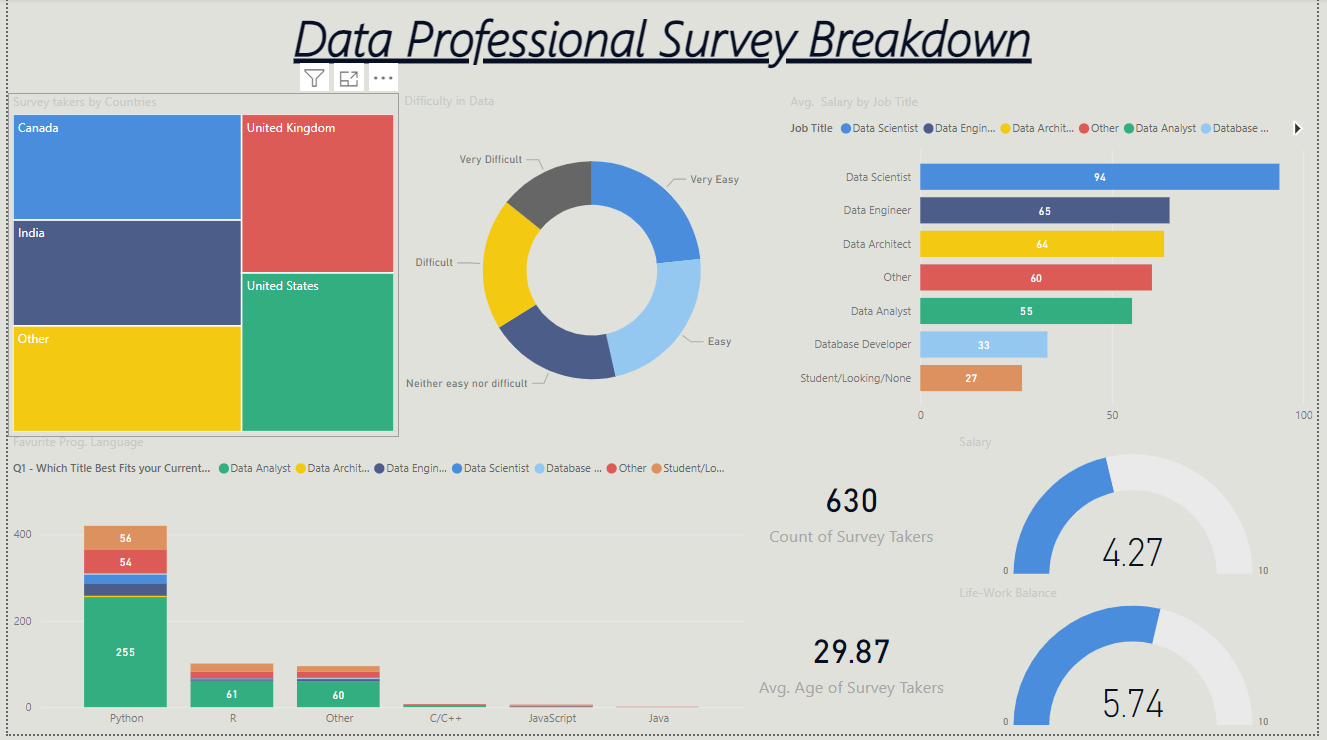

Layout of this report page (visuals, bound fields, positions):
{"tool":"powerbi","page":{"name":"Page 1","canvas":[1280,720],"ordinal":0},"visuals":[{"type":"textbox","box":[0,0,1280.3,91.3],"z":0},{"type":"card","fields":{"Values":["Count(Data Professional Survey.Unique ID)"]},"box":[725,424.8,200.1,147.9],"z":1},{"type":"card","fields":{"Values":["Avg(Data Professional Survey.Q10 - Current Age)"]},"box":[725,572.7,200.1,147.9],"z":2},{"type":"barChart","title":"Avg.  Salary by Job Title","fields":{"Category":["Data Professional Survey.Q1 - Which Title Best Fits your Current Role?.1"],"Y":["Avg(Data Professional Survey.Avg. Salary )"],"Series":["Data Professional Survey.Q1 - Which Title Best Fits your Current Role?.1"]},"box":[759.8,92.8,520.5,332],"z":3},{"type":"columnChart","title":"Favurite Prog. Language","fields":{"Category":["Data Professional Survey.Q5 - Favorite Programming Language.1"],"Y":["CountNonNull(Data Professional Survey.Unique ID)"],"Series":["Data Professional Survey.Q1 - Which Title Best Fits your Current Role?.1"]},"box":[0,424.8,725,295.8],"z":4},{"type":"treemap","title":"Survey takers by Countries","fields":{"Group":["Data Professional Survey.Q11 - Which Country do you live in?.1"],"Values":["Count(Data Professional Survey.Q11 - Which Country do you live in?.1)"]},"box":[0,92.8,382.8,336.4],"z":5},{"type":"gauge","title":"Life-Work Balance","fields":{"Y":["Avg(Data Professional Survey.Q6 - How Happy are you in your Current Position with the following? (Work/Life Balance))"],"MinValue":["Min(Data Professional Survey.Q6 - How Happy are you in your Current Position with the following? (Work/Life Balance))1"],"MaxValue":["Max(Data Professional Survey.Q6 - How Happy are you in your Current Position with the following? (Work/Life Balance))2"]},"box":[925.1,572.7,355.2,147.9],"z":6},{"type":"gauge","title":"Salary ","fields":{"Y":["Avg(Data Professional Survey.Q6 - How Happy are you in your Current Position with the following? (Salary))"],"MinValue":["Min(Data Professional Survey.Q6 - How Happy are you in your Current Position with the following? (Salary))"],"MaxValue":["Max(Data Professional Survey.Q6 - How Happy are you in your Current Position with the following? (Salary))"]},"box":[925.1,424.8,355.2,147.9],"z":7},{"type":"donutChart","title":"Difficulty in Data","fields":{"Y":["Avg(Data Professional Survey.Avg. Salary )"],"Category":["Data Professional Survey.Q7 - How difficult was it for you to break into Data?"]},"box":[382.8,91.3,377,333.5],"z":8}]}

Visuals, with their boxes in screenshot pixels (x1, y1, x2, y2), scaled from the page's 1280x720 canvas onto the 1327x740 screenshot:
textbox: region(0, 0, 1326, 94)
card - Count(Data Professional Survey.Unique ID): region(752, 437, 959, 589)
card - Avg(Data Professional Survey.Q10 - Current Age): region(752, 589, 959, 739)
"Avg.  Salary by Job Title" barChart: region(788, 95, 1326, 437)
"Favurite Prog. Language" columnChart: region(0, 437, 752, 739)
"Survey takers by Countries" treemap: region(0, 95, 397, 441)
"Life-Work Balance" gauge: region(959, 589, 1326, 739)
"Salary " gauge: region(959, 437, 1326, 589)
"Difficulty in Data" donutChart: region(397, 94, 788, 437)
